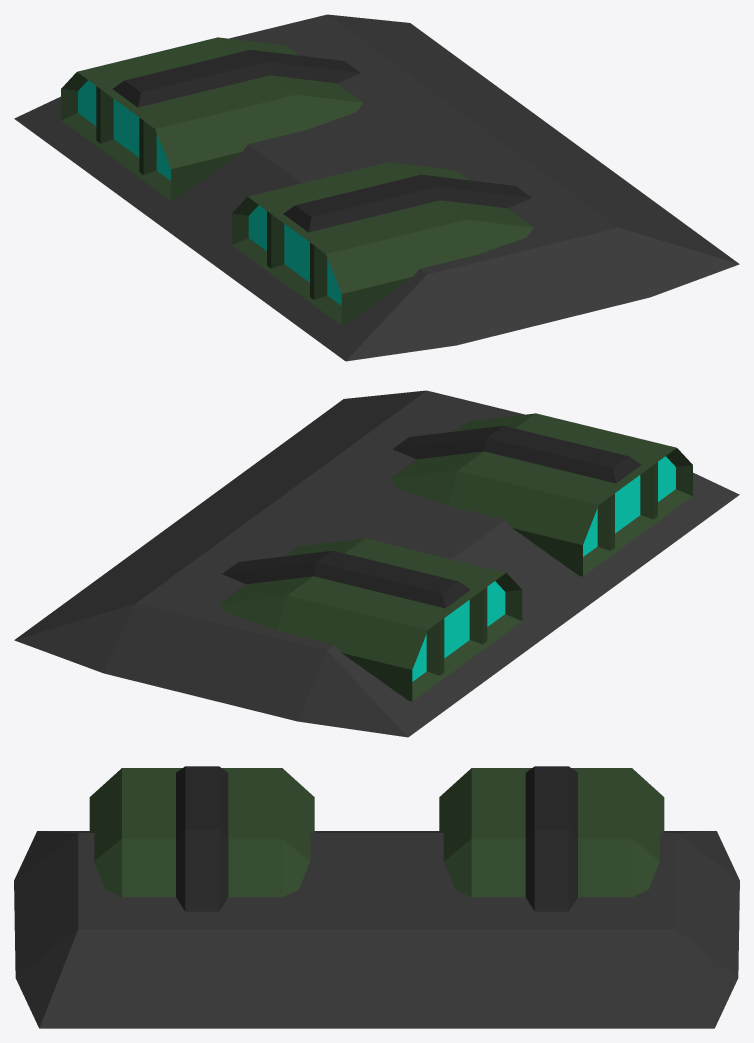
The model's file is Capsule_Roof.FBX.
3 renders of one model, top to bottom at view 1: azimuth 30°, elevation 25°; view 2: azimuth 150°, elevation 25°; view 3: azimuth 270°, elevation 25°, orthographic. The views are drawn at different scales.
Parts seen in each view (by area): view 1: Object005; view 2: Object005; view 3: Object005.
Boxes of the visible parts, x1,y1,x2,y2 form: Object005: [14, 14, 739, 361]; Object005: [14, 390, 739, 737]; Object005: [14, 766, 739, 1028].
Bounding box in the file's own units: 6.36 × 9.87 × 1.26.
